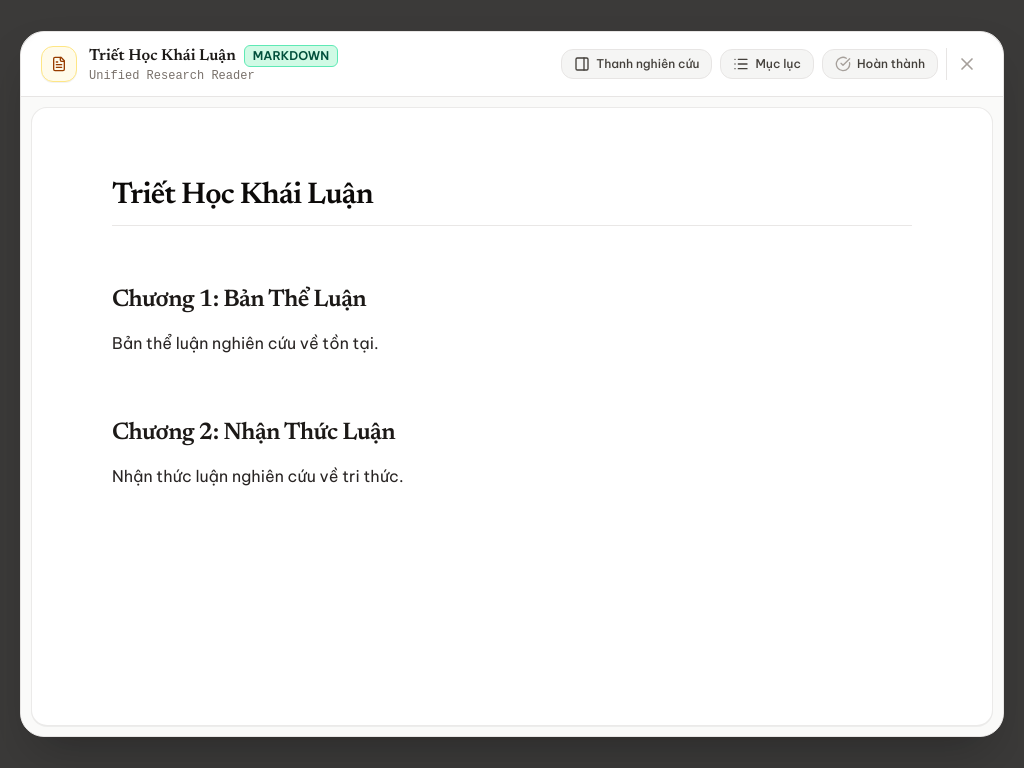
Test: Phase R3B: Reader Sidebar In-Reader Note Citation Jump › 2. Cross-Document Citation Graceful Degradation › 2.1. clicking a cross-document citation displays a helpful toast without breaking or closing the reader
The width and height of the screenshot is (1024, 768).
Click the button with test id "reader-toggle-sidebar-btn".
click(637, 64)  # box [561,49,712,79]
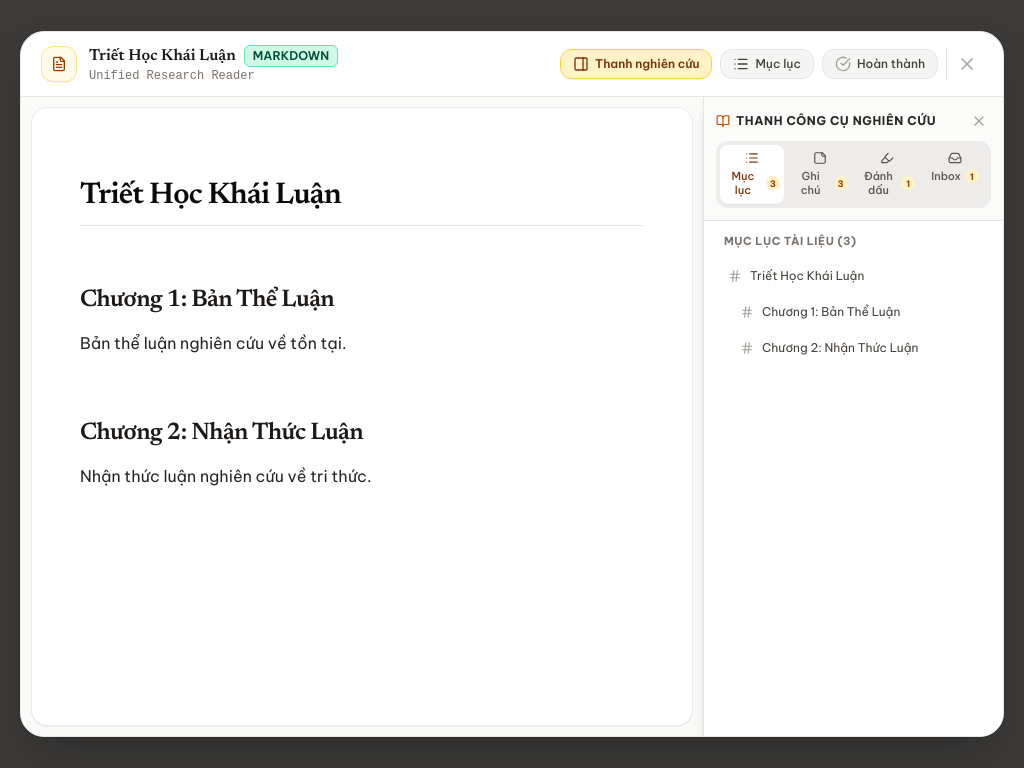
Click the tab with test id "sidebar-tab-notes".
click(820, 174)  # box [788,145,852,204]
(page scrolled)
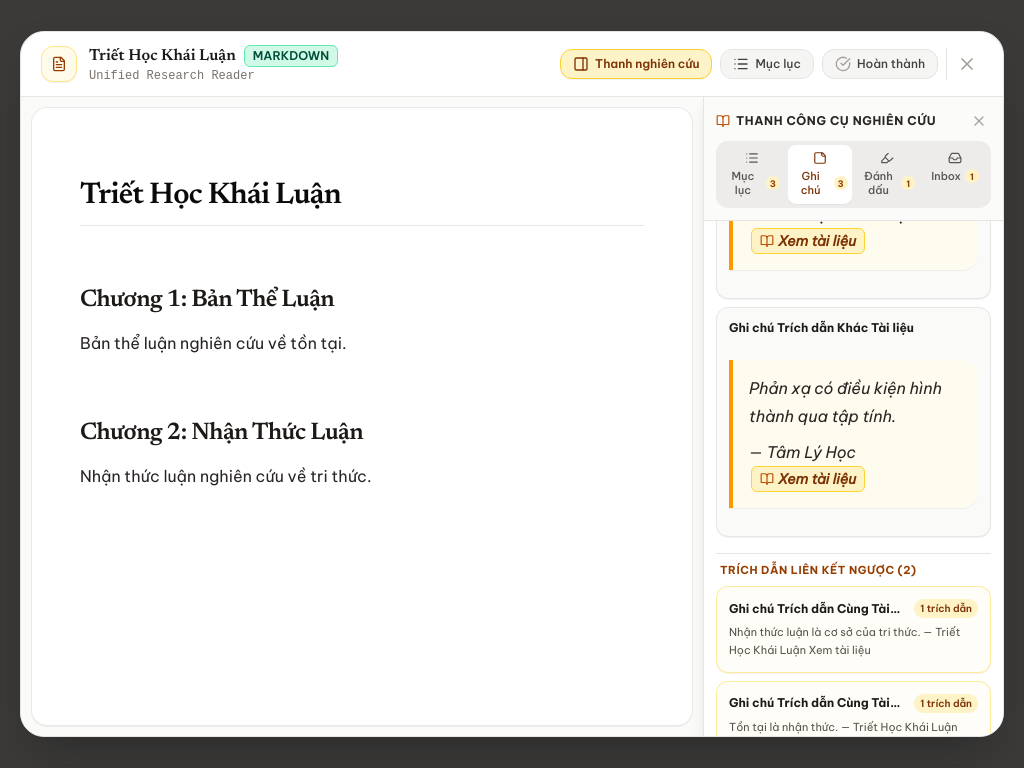
Expected: the link "Xem tài liệu" below "Tâm Lý Học" is shown
Click the link "Xem tài liệu" below "Tâm Lý Học".
click(808, 478)  # box [751,466,865,492]
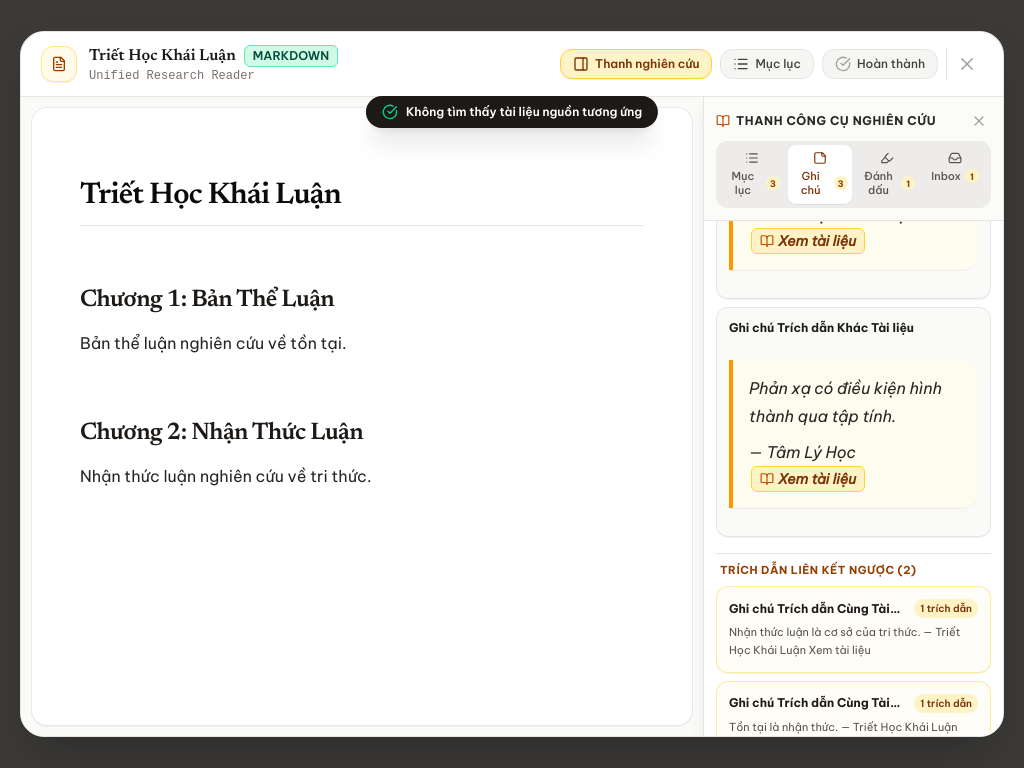
Expected: the text "Không tìm thấy tài liệu nguồn tương ứng" is shown, [406,104,642,120]
